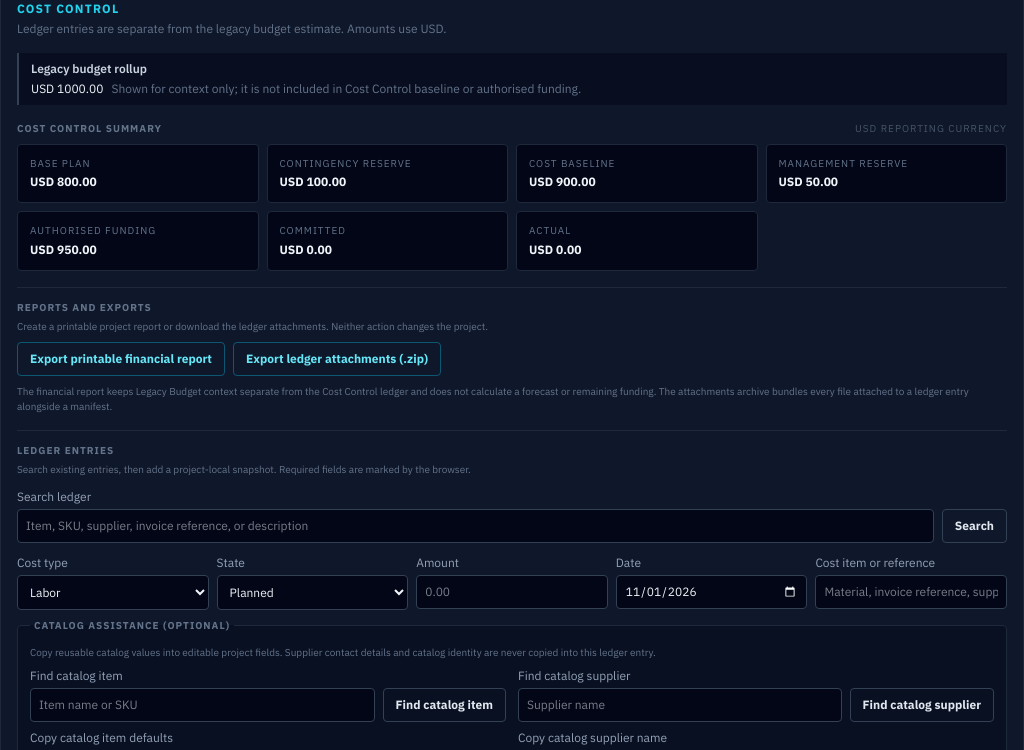
Scenario: CostControlPanel › gives the empty ledger and the searched-empty ledger distinct guidance
The width and height of the screenshot is (1024, 750).
Expected: the text "No ledger entries match this search." is not shown
Step 1. Type "missing" into the field labelled "Search ledger" → (475, 526), box [17, 509, 934, 543]
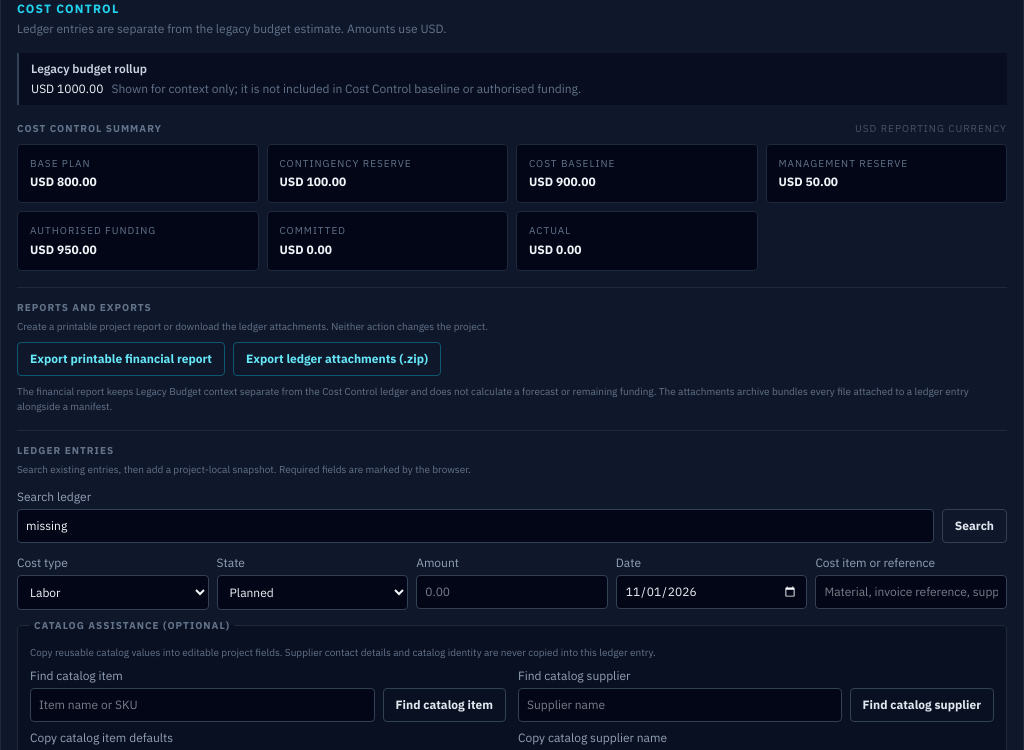
Expected: the text "No ledger entries match this search." is not shown
Step 2. Click the button "Search" → click(974, 526), box [942, 509, 1007, 543]
(page scrolled)
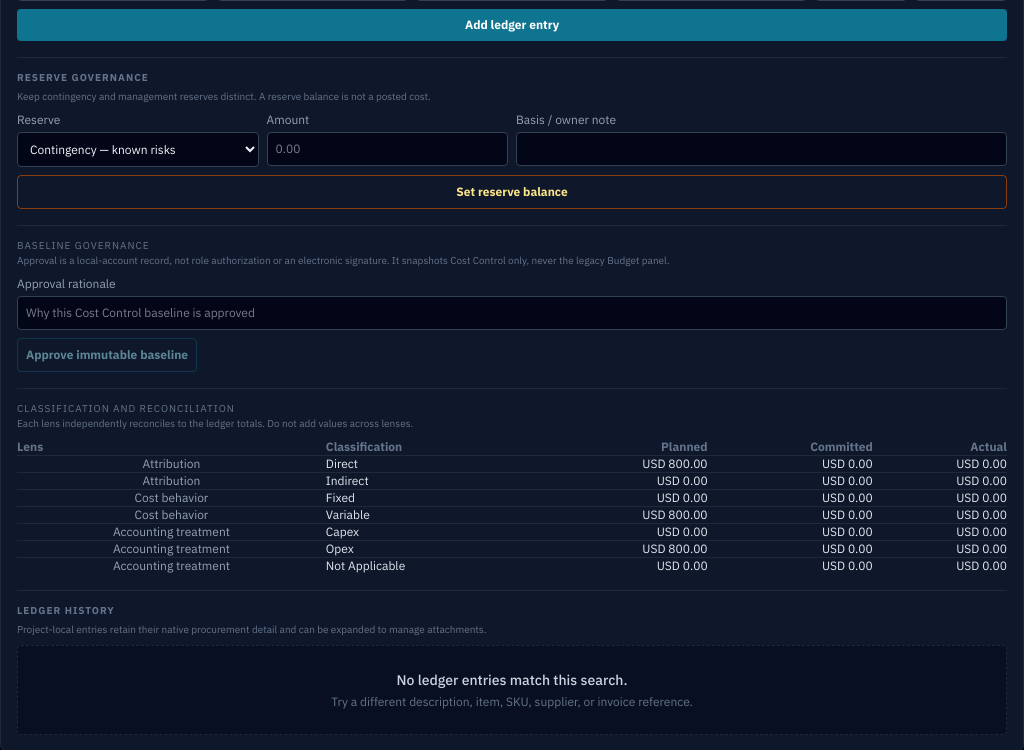
Now the text "No ledger entries match this search." is shown, box [396, 671, 628, 689]
